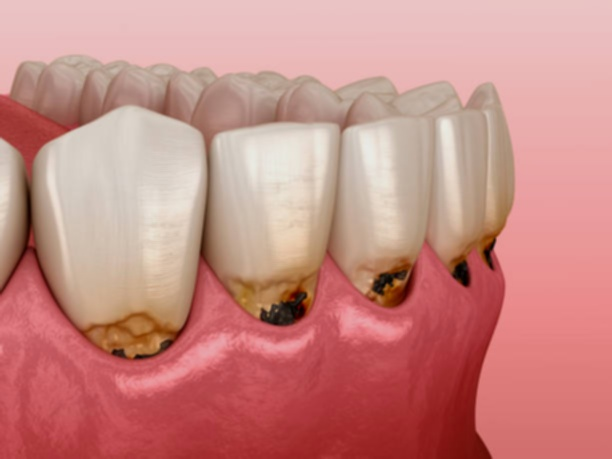Caries: (223, 259, 320, 335), (64, 307, 185, 359), (345, 251, 418, 314), (437, 242, 472, 294), (482, 227, 504, 275)
